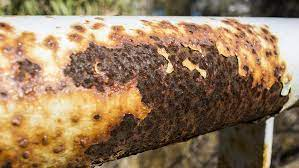rust: (63, 31, 288, 158), (129, 44, 275, 138), (73, 42, 278, 101), (88, 109, 289, 157), (9, 53, 44, 87), (147, 19, 179, 31)
